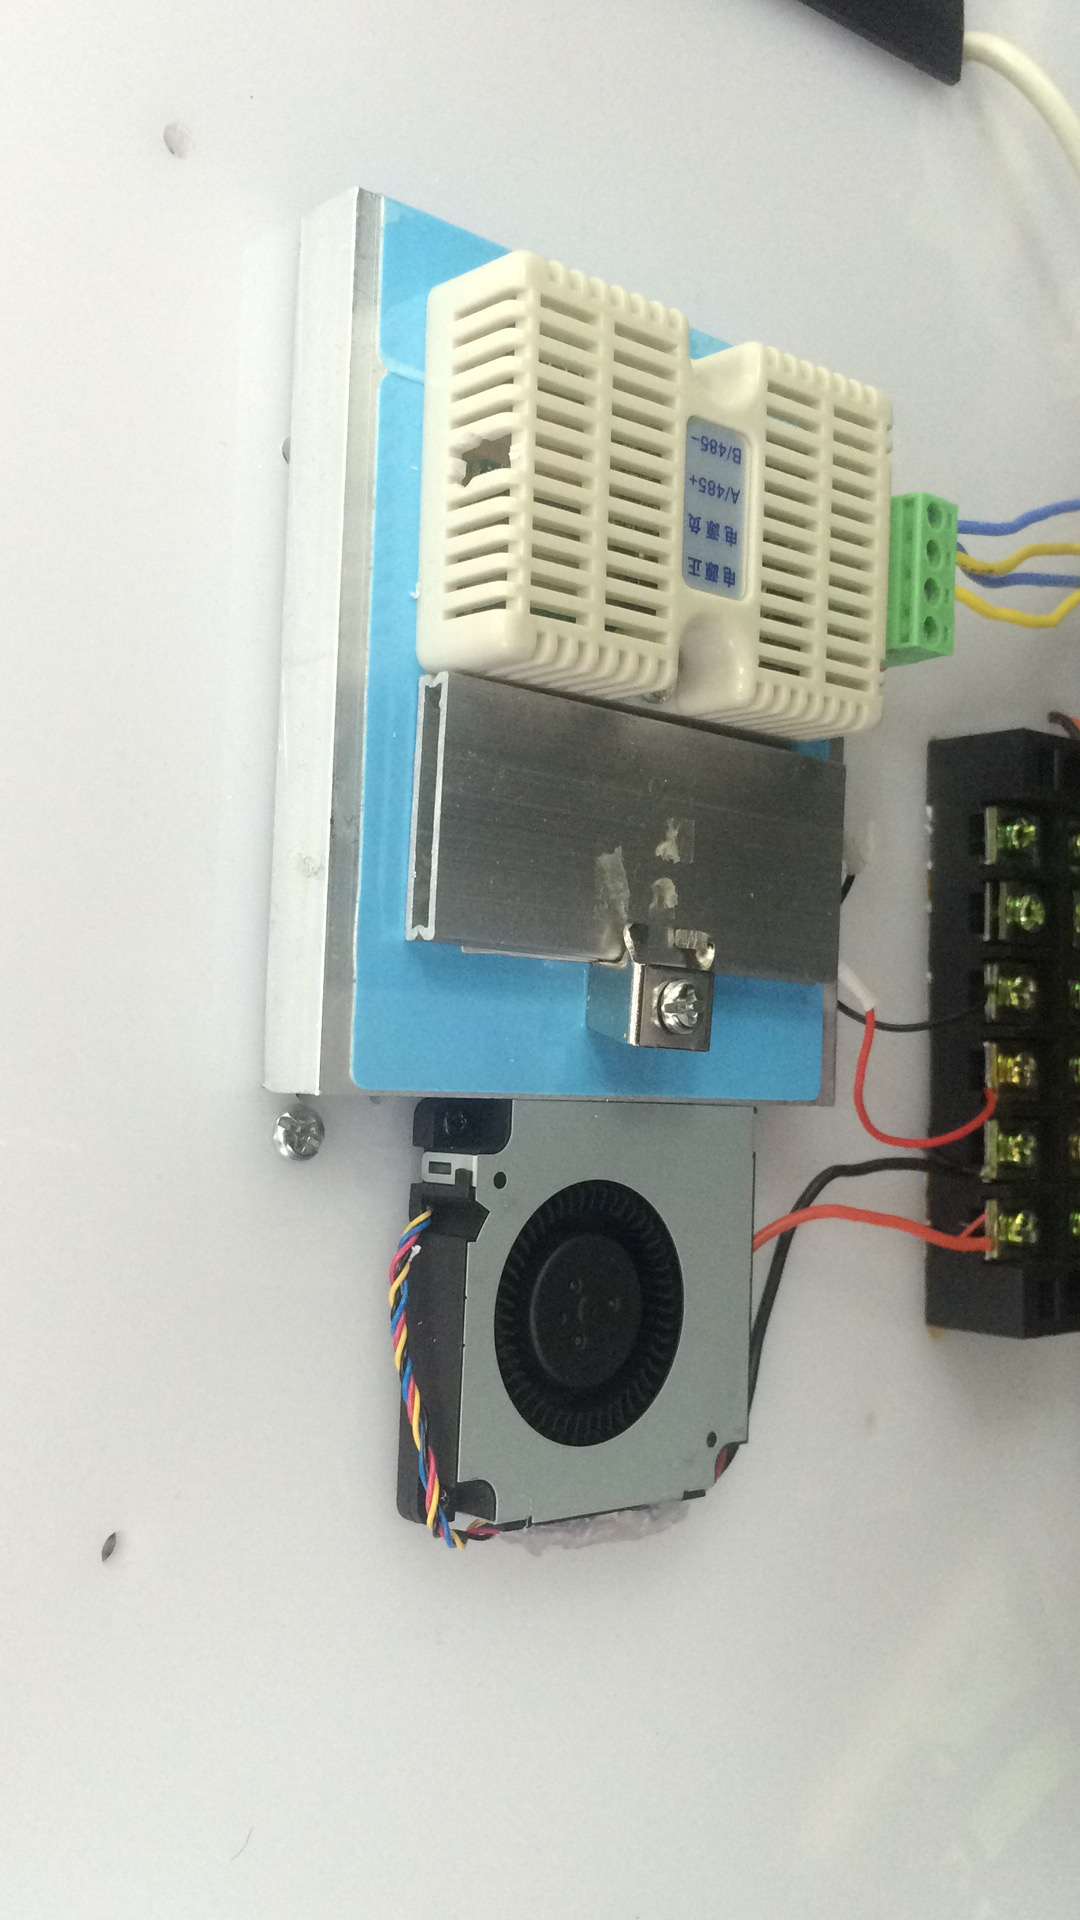fan: (377, 1102, 785, 1540)
heater: (392, 716, 855, 1004)
temperature: (421, 251, 893, 702)
